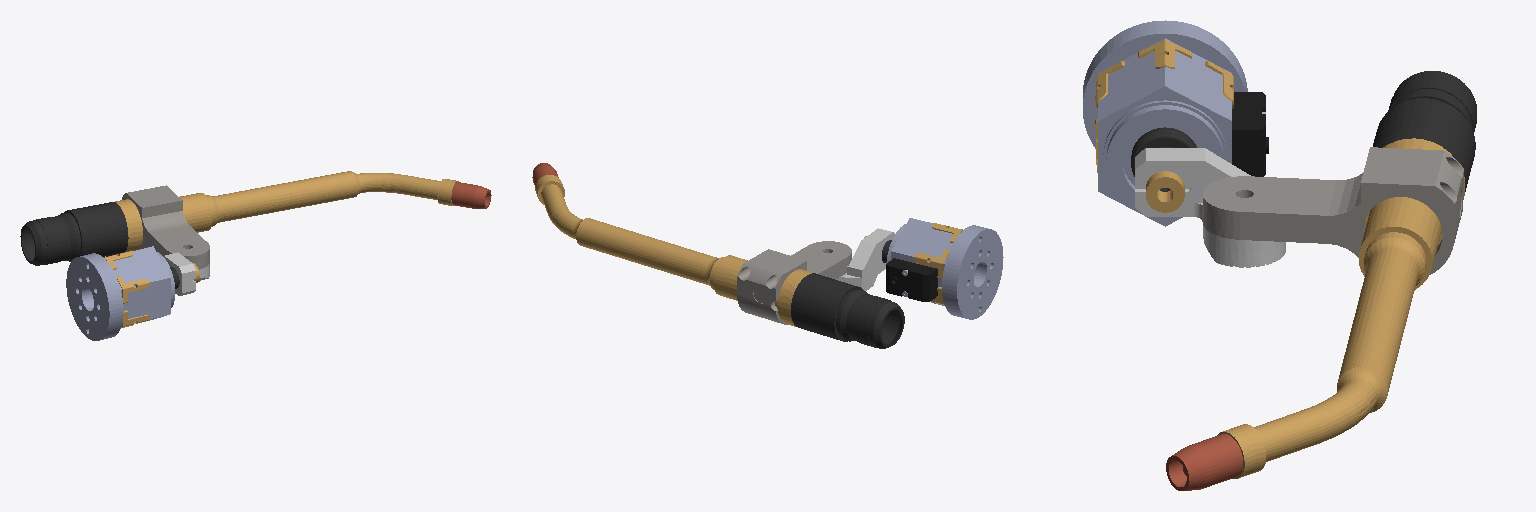
The robot description file, URDF, robot "robot":
<robot name="">
	<link name="base_link">
		<inertial>
			<origin rpy="0.00000 -0.00000 0.00000" xyz="0.00000 0.00000 0.00000" />
			<mass value="1.00000" />
			<inertia ixx="0.03922" ixy="0" ixz="0" iyy="0.07568" iyz="0" izz="0.10640" />
		</inertial>
		<visual>
			<origin rpy="0.00000 -0.00000 0.00000" xyz="0.00000 0.00000 0.00000" />
			<geometry>
				<mesh filename="rlbotics/envs/models/robots/abb/irb4400/meshes/irb4400l_30_243/visual/base_link.stl" scale="1.00000 1.00000 1.00000" />
			</geometry>
			<material name="0">
				<color rgba="0.18824 0.19608 0.20392 1.00000" />
			</material>
		</visual>
		<collision>
			<origin rpy="0.00000 -0.00000 0.00000" xyz="0.00000 0.00000 0.00000" />
			<geometry>
				<mesh filename="rlbotics/envs/models/robots/abb/irb4400/meshes/irb4400l_30_243/collision/base_link.stl" scale="1.00000 1.00000 1.00000" />
			</geometry>
		</collision>
	</link>
	<link name="link_1">
		<inertial>
			<origin rpy="0.00000 -0.00000 0.00000" xyz="0.00000 0.00000 0.00000" />
			<mass value="1.00000" />
			<inertia ixx="0.12077" ixy="0" ixz="0" iyy="0.12169" iyz="0" izz="0.15600" />
		</inertial>
		<visual>
			<origin rpy="0.00000 -0.00000 0.00000" xyz="0.00000 0.00000 0.00000" />
			<geometry>
				<mesh filename="rlbotics/envs/models/robots/abb/irb4400/meshes/irb4400l_30_243/visual/link_1.stl" scale="1.00000 1.00000 1.00000" />
			</geometry>
			<material name="1">
				<color rgba="0.73725 0.34902 0.16078 1.00000" />
			</material>
		</visual>
		<collision>
			<origin rpy="0.00000 -0.00000 0.00000" xyz="0.00000 0.00000 0.00000" />
			<geometry>
				<mesh filename="rlbotics/envs/models/robots/abb/irb4400/meshes/irb4400l_30_243/collision/link_1.stl" scale="1.00000 1.00000 1.00000" />
			</geometry>
		</collision>
	</link>
	<link name="link_2">
		<inertial>
			<origin rpy="0.00000 -0.00000 0.00000" xyz="0.00000 0.00000 0.00000" />
			<mass value="1.00000" />
			<inertia ixx="0.11062" ixy="0" ixz="0" iyy="0.11480" iyz="0" izz="0.01469" />
		</inertial>
		<visual>
			<origin rpy="0.00000 -0.00000 0.00000" xyz="0.00000 0.00000 0.00000" />
			<geometry>
				<mesh filename="rlbotics/envs/models/robots/abb/irb4400/meshes/irb4400l_30_243/visual/link_2.stl" scale="1.00000 1.00000 1.00000" />
			</geometry>
			<material name="2">
				<color rgba="0.73725 0.34902 0.16078 1.00000" />
			</material>
		</visual>
		<collision>
			<origin rpy="0.00000 -0.00000 0.00000" xyz="0.00000 0.00000 0.00000" />
			<geometry>
				<mesh filename="rlbotics/envs/models/robots/abb/irb4400/meshes/irb4400l_30_243/collision/link_2.stl" scale="1.00000 1.00000 1.00000" />
			</geometry>
		</collision>
	</link>
	<link name="link_3">
		<inertial>
			<origin rpy="0.00000 -0.00000 0.00000" xyz="0.00000 0.00000 0.00000" />
			<mass value="1.00000" />
			<inertia ixx="0.02480" ixy="0" ixz="0" iyy="0.05612" iyz="0" izz="0.05646" />
		</inertial>
		<visual>
			<origin rpy="0.00000 -0.00000 0.00000" xyz="0.00000 0.00000 0.00000" />
			<geometry>
				<mesh filename="rlbotics/envs/models/robots/abb/irb4400/meshes/irb4400l_30_243/visual/link_3.stl" scale="1.00000 1.00000 1.00000" />
			</geometry>
			<material name="3">
				<color rgba="0.73725 0.34902 0.16078 1.00000" />
			</material>
		</visual>
		<collision>
			<origin rpy="0.00000 -0.00000 0.00000" xyz="0.00000 0.00000 0.00000" />
			<geometry>
				<mesh filename="rlbotics/envs/models/robots/abb/irb4400/meshes/irb4400l_30_243/collision/link_3.stl" scale="1.00000 1.00000 1.00000" />
			</geometry>
		</collision>
	</link>
	<link name="link_4">
		<inertial>
			<origin rpy="0.00000 -0.00000 0.00000" xyz="0.00000 0.00000 0.00000" />
			<mass value="1.00000" />
			<inertia ixx="0.01045" ixy="0" ixz="0" iyy="0.13699" iyz="0" izz="0.13770" />
		</inertial>
		<visual>
			<origin rpy="0.00000 -0.00000 0.00000" xyz="0.00000 0.00000 0.00000" />
			<geometry>
				<mesh filename="rlbotics/envs/models/robots/abb/irb4400/meshes/irb4400l_30_243/visual/link_4.stl" scale="1.00000 1.00000 1.00000" />
			</geometry>
			<material name="4">
				<color rgba="0.73725 0.34902 0.16078 1.00000" />
			</material>
		</visual>
		<collision>
			<origin rpy="0.00000 -0.00000 0.00000" xyz="0.00000 0.00000 0.00000" />
			<geometry>
				<mesh filename="rlbotics/envs/models/robots/abb/irb4400/meshes/irb4400l_30_243/collision/link_4.stl" scale="1.00000 1.00000 1.00000" />
			</geometry>
		</collision>
	</link>
	<link name="link_5">
		<inertial>
			<origin rpy="0.00000 -0.00000 0.00000" xyz="0.00000 0.00000 0.00000" />
			<mass value="1.00000" />
			<inertia ixx="0.00255" ixy="0" ixz="0" iyy="0.00530" iyz="0" izz="0.00362" />
		</inertial>
		<visual>
			<origin rpy="0.00000 -0.00000 0.00000" xyz="0.00000 0.00000 0.00000" />
			<geometry>
				<mesh filename="rlbotics/envs/models/robots/abb/irb4400/meshes/irb4400l_30_243/visual/link_5.stl" scale="1.00000 1.00000 1.00000" />
			</geometry>
			<material name="5">
				<color rgba="0.73725 0.34902 0.16078 1.00000" />
			</material>
		</visual>
		<collision>
			<origin rpy="0.00000 -0.00000 0.00000" xyz="0.00000 0.00000 0.00000" />
			<geometry>
				<mesh filename="rlbotics/envs/models/robots/abb/irb4400/meshes/irb4400l_30_243/collision/link_5.stl" scale="1.00000 1.00000 1.00000" />
			</geometry>
		</collision>
	</link>
	<link name="link_6">
		<inertial>
			<origin rpy="0.00000 -0.00000 0.00000" xyz="0.00000 0.00000 0.00000" />
			<mass value="1.00000" />
			<inertia ixx="0.00313" ixy="0" ixz="0" iyy="0.00524" iyz="0" izz="0.00536" />
		</inertial>
		<visual>
			<origin rpy="0.00000 -0.00000 0.00000" xyz="0.00000 0.00000 0.00000" />
			<geometry>
				<mesh filename="rlbotics/envs/models/robots/abb/irb4400/meshes/irb4400l_30_243/visual/link_6.stl" scale="1.00000 1.00000 1.00000" />
			</geometry>
			<material name="6">
				<color rgba="0.18824 0.19608 0.20392 1.00000" />
			</material>
		</visual>
		<collision>
			<origin rpy="0.00000 -0.00000 0.00000" xyz="0.00000 0.00000 0.00000" />
			<geometry>
				<mesh filename="rlbotics/envs/models/robots/abb/irb4400/meshes/irb4400l_30_243/collision/link_6.stl" scale="1.00000 1.00000 1.00000" />
			</geometry>
		</collision>
	</link>
	<link name="tool0">
		<inertial>
			<origin rpy="0.00000 -0.00000 0.00000" xyz="0.00000 0.00000 0.00000" />
			<mass value="1.00000" />
			<inertia ixx="0.00000" ixy="0" ixz="0" iyy="0.00000" iyz="0" izz="0.00000" />
		</inertial>
	</link>
	<link name="base">
		<inertial>
			<origin rpy="0.00000 -0.00000 0.00000" xyz="0.00000 0.00000 0.00000" />
			<mass value="1.00000" />
			<inertia ixx="0.00000" ixy="0" ixz="0" iyy="0.00000" iyz="0" izz="0.00000" />
		</inertial>
	</link>
	<link name="root">
		<inertial>
			<origin rpy="0.00000 -0.00000 0.00000" xyz="-0.01448 -0.00427 0.02204" />
			<mass value="10.00000" />
			<inertia ixx="0.62536" ixy="0" ixz="0" iyy="0.53801" iyz="0" izz="0.12460" />
		</inertial>
		<visual>
			<origin rpy="0.00000 -0.00000 0.00000" xyz="-0.02792 -0.00816 0.04271" />
			<geometry>
				<mesh filename="rlbotics/envs/models/end_effectors/welding/welding_torch/meshes/stl/Body1.stl" scale="0.01913 0.01913 0.01913" />
			</geometry>
			<material name="7">
				<color rgba="0.80000 0.80000 0.80000 1.00000" />
			</material>
		</visual>
		<visual>
			<origin rpy="0.00000 -0.00000 0.00000" xyz="-0.02792 -0.00816 0.04271" />
			<geometry>
				<mesh filename="rlbotics/envs/models/end_effectors/welding/welding_torch/meshes/stl/Body10.stl" scale="0.01913 0.01913 0.01913" />
			</geometry>
			<material name="8">
				<color rgba="0.80000 0.64627 0.39843 1.00000" />
			</material>
		</visual>
		<visual>
			<origin rpy="0.00000 -0.00000 0.00000" xyz="-0.02792 -0.00816 0.04271" />
			<geometry>
				<mesh filename="rlbotics/envs/models/end_effectors/welding/welding_torch/meshes/stl/Body11.stl" scale="0.01913 0.01913 0.01913" />
			</geometry>
			<material name="9">
				<color rgba="0.80000 0.64627 0.39843 1.00000" />
			</material>
		</visual>
		<visual>
			<origin rpy="0.00000 -0.00000 0.00000" xyz="-0.02792 -0.00816 0.04271" />
			<geometry>
				<mesh filename="rlbotics/envs/models/end_effectors/welding/welding_torch/meshes/stl/Body12.stl" scale="0.01913 0.01913 0.01913" />
			</geometry>
			<material name="10">
				<color rgba="0.63373 0.65569 0.74667 1.00000" />
			</material>
		</visual>
		<visual>
			<origin rpy="0.00000 -0.00000 0.00000" xyz="-0.02792 -0.00816 0.04271" />
			<geometry>
				<mesh filename="rlbotics/envs/models/end_effectors/welding/welding_torch/meshes/stl/Body13.stl" scale="0.01913 0.01913 0.01913" />
			</geometry>
			<material name="11">
				<color rgba="0.71843 0.73412 0.74353 1.00000" />
			</material>
		</visual>
		<visual>
			<origin rpy="0.00000 -0.00000 0.00000" xyz="-0.02792 -0.00816 0.04271" />
			<geometry>
				<mesh filename="rlbotics/envs/models/end_effectors/welding/welding_torch/meshes/stl/Body14.stl" scale="0.01913 0.01913 0.01913" />
			</geometry>
			<material name="12">
				<color rgba="0.63373 0.65569 0.74667 1.00000" />
			</material>
		</visual>
		<visual>
			<origin rpy="0.00000 -0.00000 0.00000" xyz="-0.02792 -0.00816 0.04271" />
			<geometry>
				<mesh filename="rlbotics/envs/models/end_effectors/welding/welding_torch/meshes/stl/Body15.stl" scale="0.01913 0.01913 0.01913" />
			</geometry>
			<material name="13">
				<color rgba="0.80000 0.64627 0.39843 1.00000" />
			</material>
		</visual>
		<visual>
			<origin rpy="0.00000 -0.00000 0.00000" xyz="-0.02792 -0.00816 0.04271" />
			<geometry>
				<mesh filename="rlbotics/envs/models/end_effectors/welding/welding_torch/meshes/stl/Body16.stl" scale="0.01913 0.01913 0.01913" />
			</geometry>
			<material name="14">
				<color rgba="0.63373 0.65569 0.74667 1.00000" />
			</material>
		</visual>
		<visual>
			<origin rpy="0.00000 -0.00000 0.00000" xyz="-0.02792 -0.00816 0.04271" />
			<geometry>
				<mesh filename="rlbotics/envs/models/end_effectors/welding/welding_torch/meshes/stl/Body17.stl" scale="0.01913 0.01913 0.01913" />
			</geometry>
			<material name="15">
				<color rgba="0.63373 0.65569 0.74667 1.00000" />
			</material>
		</visual>
		<visual>
			<origin rpy="0.00000 -0.00000 0.00000" xyz="-0.02792 -0.00816 0.04271" />
			<geometry>
				<mesh filename="rlbotics/envs/models/end_effectors/welding/welding_torch/meshes/stl/Body18.stl" scale="0.01913 0.01913 0.01913" />
			</geometry>
			<material name="16">
				<color rgba="0.63373 0.65569 0.74667 1.00000" />
			</material>
		</visual>
		<visual>
			<origin rpy="0.00000 -0.00000 0.00000" xyz="-0.02792 -0.00816 0.04271" />
			<geometry>
				<mesh filename="rlbotics/envs/models/end_effectors/welding/welding_torch/meshes/stl/Body19.stl" scale="0.01913 0.01913 0.01913" />
			</geometry>
			<material name="17">
				<color rgba="0.63373 0.65569 0.74667 1.00000" />
			</material>
		</visual>
		<visual>
			<origin rpy="0.00000 -0.00000 0.00000" xyz="-0.02792 -0.00816 0.04271" />
			<geometry>
				<mesh filename="rlbotics/envs/models/end_effectors/welding/welding_torch/meshes/stl/Body2.stl" scale="0.01913 0.01913 0.01913" />
			</geometry>
			<material name="18">
				<color rgba="0.54902 0.48627 0.42353 1.00000" />
			</material>
		</visual>
		<visual>
			<origin rpy="0.00000 -0.00000 0.00000" xyz="-0.02792 -0.00816 0.04271" />
			<geometry>
				<mesh filename="rlbotics/envs/models/end_effectors/welding/welding_torch/meshes/stl/Body20.stl" scale="0.01913 0.01913 0.01913" />
			</geometry>
			<material name="19">
				<color rgba="0.63373 0.65569 0.74667 1.00000" />
			</material>
		</visual>
		<visual>
			<origin rpy="0.00000 -0.00000 0.00000" xyz="-0.02792 -0.00816 0.04271" />
			<geometry>
				<mesh filename="rlbotics/envs/models/end_effectors/welding/welding_torch/meshes/stl/Body21.stl" scale="0.01913 0.01913 0.01913" />
			</geometry>
			<material name="20">
				<color rgba="0.80000 0.64627 0.39843 1.00000" />
			</material>
		</visual>
		<visual>
			<origin rpy="0.00000 -0.00000 0.00000" xyz="-0.02792 -0.00816 0.04271" />
			<geometry>
				<mesh filename="rlbotics/envs/models/end_effectors/welding/welding_torch/meshes/stl/Body23.stl" scale="0.01913 0.01913 0.01913" />
			</geometry>
			<material name="21">
				<color rgba="0.23843 0.23843 0.23843 1.00000" />
			</material>
		</visual>
		<visual>
			<origin rpy="0.00000 -0.00000 0.00000" xyz="-0.02792 -0.00816 0.04271" />
			<geometry>
				<mesh filename="rlbotics/envs/models/end_effectors/welding/welding_torch/meshes/stl/Body24.stl" scale="0.01913 0.01913 0.01913" />
			</geometry>
			<material name="22">
				<color rgba="0.80000 0.64627 0.39843 1.00000" />
			</material>
		</visual>
		<visual>
			<origin rpy="0.00000 -0.00000 0.00000" xyz="-0.02792 -0.00816 0.04271" />
			<geometry>
				<mesh filename="rlbotics/envs/models/end_effectors/welding/welding_torch/meshes/stl/Body25.stl" scale="0.01913 0.01913 0.01913" />
			</geometry>
			<material name="23">
				<color rgba="0.23843 0.23843 0.23843 1.00000" />
			</material>
		</visual>
		<visual>
			<origin rpy="0.00000 -0.00000 0.00000" xyz="-0.02792 -0.00816 0.04271" />
			<geometry>
				<mesh filename="rlbotics/envs/models/end_effectors/welding/welding_torch/meshes/stl/Body26.stl" scale="0.01913 0.01913 0.01913" />
			</geometry>
			<material name="24">
				<color rgba="0.62118 0.55843 0.51137 1.00000" />
			</material>
		</visual>
		<visual>
			<origin rpy="0.00000 -0.00000 0.00000" xyz="-0.02792 -0.00816 0.04271" />
			<geometry>
				<mesh filename="rlbotics/envs/models/end_effectors/welding/welding_torch/meshes/stl/Body27.stl" scale="0.01913 0.01913 0.01913" />
			</geometry>
			<material name="25">
				<color rgba="0.67137 0.37333 0.29490 1.00000" />
			</material>
		</visual>
		<visual>
			<origin rpy="0.00000 -0.00000 0.00000" xyz="-0.02792 -0.00816 0.04271" />
			<geometry>
				<mesh filename="rlbotics/envs/models/end_effectors/welding/welding_torch/meshes/stl/Body3.stl" scale="0.01913 0.01913 0.01913" />
			</geometry>
			<material name="26">
				<color rgba="0.62118 0.60549 0.58980 1.00000" />
			</material>
		</visual>
		<visual>
			<origin rpy="0.00000 -0.00000 0.00000" xyz="-0.02792 -0.00816 0.04271" />
			<geometry>
				<mesh filename="rlbotics/envs/models/end_effectors/welding/welding_torch/meshes/stl/Body4.stl" scale="0.01913 0.01913 0.01913" />
			</geometry>
			<material name="27">
				<color rgba="0.80000 0.62431 0.52706 1.00000" />
			</material>
		</visual>
		<visual>
			<origin rpy="0.00000 -0.00000 0.00000" xyz="-0.02792 -0.00816 0.04271" />
			<geometry>
				<mesh filename="rlbotics/envs/models/end_effectors/welding/welding_torch/meshes/stl/Body5.stl" scale="0.01913 0.01913 0.01913" />
			</geometry>
			<material name="28">
				<color rgba="0.63373 0.65569 0.74667 1.00000" />
			</material>
		</visual>
		<visual>
			<origin rpy="0.00000 -0.00000 0.00000" xyz="-0.02792 -0.00816 0.04271" />
			<geometry>
				<mesh filename="rlbotics/envs/models/end_effectors/welding/welding_torch/meshes/stl/Body6.stl" scale="0.01913 0.01913 0.01913" />
			</geometry>
			<material name="29">
				<color rgba="0.16000 0.16000 0.16000 1.00000" />
			</material>
		</visual>
		<visual>
			<origin rpy="0.00000 -0.00000 0.00000" xyz="-0.02792 -0.00816 0.04271" />
			<geometry>
				<mesh filename="rlbotics/envs/models/end_effectors/welding/welding_torch/meshes/stl/Body7.stl" scale="0.01913 0.01913 0.01913" />
			</geometry>
			<material name="30">
				<color rgba="0.80000 0.64627 0.39843 1.00000" />
			</material>
		</visual>
		<visual>
			<origin rpy="0.00000 -0.00000 0.00000" xyz="-0.02792 -0.00816 0.04271" />
			<geometry>
				<mesh filename="rlbotics/envs/models/end_effectors/welding/welding_torch/meshes/stl/Body8.stl" scale="0.01913 0.01913 0.01913" />
			</geometry>
			<material name="31">
				<color rgba="0.80000 0.64627 0.39843 1.00000" />
			</material>
		</visual>
		<visual>
			<origin rpy="0.00000 -0.00000 0.00000" xyz="-0.02792 -0.00816 0.04271" />
			<geometry>
				<mesh filename="rlbotics/envs/models/end_effectors/welding/welding_torch/meshes/stl/Body9.stl" scale="0.01913 0.01913 0.01913" />
			</geometry>
			<material name="32">
				<color rgba="0.80000 0.64627 0.39843 1.00000" />
			</material>
		</visual>
		<collision>
			<origin rpy="0.00000 -0.00000 0.00000" xyz="-0.02694 -0.00899 0.04304" />
			<geometry>
				<mesh filename="rlbotics/envs/models/end_effectors/welding/welding_torch/meshes/stl/Body1.001.stl" scale="1.91308 1.91308 1.91308" />
			</geometry>
		</collision>
		<collision>
			<origin rpy="0.00000 -0.00000 0.00000" xyz="-0.03031 -0.00834 0.04250" />
			<geometry>
				<mesh filename="rlbotics/envs/models/end_effectors/welding/welding_torch/meshes/stl/Body23.001.stl" scale="1.91308 1.91308 1.91308" />
			</geometry>
		</collision>
		<collision>
			<origin rpy="0.00000 -0.00000 0.00000" xyz="-0.02830 -0.00808 0.04410" />
			<geometry>
				<mesh filename="rlbotics/envs/models/end_effectors/welding/welding_torch/meshes/stl/Body24.001.stl" scale="1.91308 1.91308 1.91308" />
			</geometry>
		</collision>
		<collision>
			<origin rpy="0.00000 -0.00000 0.00000" xyz="-0.02798 -0.00886 0.05092" />
			<geometry>
				<mesh filename="rlbotics/envs/models/end_effectors/welding/welding_torch/meshes/stl/Body25.001.stl" scale="1.91308 1.91308 1.91308" />
			</geometry>
		</collision>
		<collision>
			<origin rpy="0.00000 -0.00000 0.00000" xyz="-0.02695 -0.00714 0.04028" />
			<geometry>
				<mesh filename="rlbotics/envs/models/end_effectors/welding/welding_torch/meshes/stl/Body3.001.stl" scale="1.91308 1.91308 1.91308" />
			</geometry>
		</collision>
		<collision>
			<origin rpy="0.00000 -0.00000 0.00000" xyz="-0.02659 -0.00839 0.04212" />
			<geometry>
				<mesh filename="rlbotics/envs/models/end_effectors/welding/welding_torch/meshes/stl/Body5.001.stl" scale="1.91308 1.91308 1.91308" />
			</geometry>
		</collision>
		<collision>
			<origin rpy="0.00000 -0.00000 0.00000" xyz="-0.02771 -0.00796 0.04287" />
			<geometry>
				<mesh filename="rlbotics/envs/models/end_effectors/welding/welding_torch/meshes/stl/Body6.001.stl" scale="1.91308 1.91308 1.91308" />
			</geometry>
		</collision>
	</link>
	<link name="ee_joint_arm">
		<inertial>
			<origin rpy="0.00000 -0.00000 0.00000" xyz="-0.01458 -0.00585 0.05244" />
			<mass value="2.00000" />
			<inertia ixx="0.00442" ixy="0" ixz="0" iyy="0.00442" iyz="0" izz="0.00843" />
		</inertial>
		<visual>
			<origin rpy="0.00000 -0.00000 0.00000" xyz="-0.02797 -0.01121 0.09982" />
			<geometry>
				<mesh filename="rlbotics/envs/models/end_effectors/welding/welding_torch/meshes/stl/Body22.stl" scale="0.01913 0.01913 0.01913" />
			</geometry>
			<material name="33">
				<color rgba="0.63373 0.65569 0.74667 1.00000" />
			</material>
		</visual>
		<collision>
			<origin rpy="0.00000 -0.00000 0.00000" xyz="-0.02788 -0.01119 0.10032" />
			<geometry>
				<mesh filename="rlbotics/envs/models/end_effectors/welding/welding_torch/meshes/stl/Body22.001.stl" scale="1.91308 1.91308 1.91308" />
			</geometry>
		</collision>
	</link>
	<link name="nozzle_tip">
		<inertial>
			<origin rpy="0.00000 -0.00000 0.00000" xyz="-0.01570 -0.30904 -0.22158" />
			<mass value="2.00000" />
			<inertia ixx="0.00381" ixy="0" ixz="0" iyy="0.00232" iyz="0" izz="0.00228" />
		</inertial>
		<visual>
			<origin rpy="-0.92502 0.00000 0.00000" xyz="-0.02985 -0.59008 -0.41691" />
			<geometry>
				<mesh filename="rlbotics/envs/models/end_effectors/welding/welding_torch/meshes/stl/Body28.stl" scale="0.01913 0.01913 0.01913" />
			</geometry>
			<material name="34">
				<color rgba="0.67137 0.37333 0.29490 1.00000" />
			</material>
		</visual>
		<collision>
			<origin rpy="-0.92502 0.00000 0.00000" xyz="-0.03004 -0.59122 -0.42390" />
			<geometry>
				<mesh filename="rlbotics/envs/models/end_effectors/welding/welding_torch/meshes/stl/Body28.001.stl" scale="1.91308 1.91308 1.91308" />
			</geometry>
		</collision>
	</link>
	<joint name="joint_1" type="revolute">
		<parent link="base_link" />
		<child link="link_1" />
		<dynamics damping="0.0" friction="0.0" />
		<origin rpy="0.00000 -0.00000 0.00000" xyz="0.00000 0.00000 0.00000" />
		<axis xyz="0.00000 0.00000 1.00000" />
	<limit effort="0.0" lower="-2.87979" upper="2.87979" velocity="2.618" /></joint>
	<joint name="joint_2" type="revolute">
		<parent link="link_1" />
		<child link="link_2" />
		<dynamics damping="0.0" friction="0.0" />
		<origin rpy="0.00000 -0.00000 0.00000" xyz="0.20000 0.00000 0.68000" />
		<axis xyz="0.00000 1.00000 0.00000" />
	<limit effort="0.0" lower="-1.2217" upper="1.658" velocity="2.0944" /></joint>
	<joint name="joint_3" type="revolute">
		<parent link="link_2" />
		<child link="link_3" />
		<dynamics damping="0.0" friction="0.0" />
		<origin rpy="0.00000 -0.00000 0.00000" xyz="0.00000 0.00000 0.89000" />
		<axis xyz="0.00000 1.00000 0.00000" />
	<limit effort="0.0" lower="-1.0472" upper="1.1345" velocity="2.0944" /></joint>
	<joint name="joint_4" type="revolute">
		<parent link="link_3" />
		<child link="link_4" />
		<dynamics damping="0.0" friction="0.0" />
		<origin rpy="0.00000 -0.00000 0.00000" xyz="1.38000 0.00000 0.15000" />
		<axis xyz="1.00000 0.00000 0.00000" />
	<limit effort="0.0" lower="-3.49" upper="3.49" velocity="3.927" /></joint>
	<joint name="joint_5" type="revolute">
		<parent link="link_4" />
		<child link="link_5" />
		<dynamics damping="0.0" friction="0.0" />
		<origin rpy="0.00000 -0.00000 0.00000" xyz="0.00000 0.00000 0.00000" />
		<axis xyz="0.00000 1.00000 0.00000" />
	<limit effort="0.0" lower="-2.0944" upper="2.0944" velocity="4.3633" /></joint>
	<joint name="joint_6" type="revolute">
		<parent link="link_5" />
		<child link="link_6" />
		<dynamics damping="0.0" friction="0.0" />
		<origin rpy="0.00000 -0.00000 0.00000" xyz="0.00000 0.00000 0.00000" />
		<axis xyz="1.00000 0.00000 0.00000" />
	<limit effort="0.0" lower="-6.9813" upper="6.9813" velocity="5.7596" /></joint>
	<joint name="joint_6-tool0" type="fixed">
		<parent link="link_6" />
		<child link="tool0" />
		<dynamics damping="1.0" friction="0.0001" />
		<origin rpy="0.00000 -0.00000 0.00000" xyz="0.14000 0.00000 0.00000" />
		<axis xyz="0.00000 0.00000 0.00000" />
	</joint>
	<joint name="base_link-base" type="fixed">
		<parent link="base_link" />
		<child link="base" />
		<dynamics damping="1.0" friction="0.0001" />
		<origin rpy="0.00000 -0.00000 0.00000" xyz="0.00000 0.00000 0.00000" />
		<axis xyz="0.00000 0.00000 0.00000" />
	</joint>
	<joint name="joint_dummy1" type="fixed">
		<parent link="link_6" />
		<child link="root" />
		<dynamics damping="1.0" friction="0.0001" />
		<origin rpy="0.00000 1.57080 0.00000" xyz="0.00000 0.00000 0.00000" />
		<axis xyz="0.00000 0.00000 1.00000" />
	</joint>
	<joint name="ee_joint_arm" type="fixed">
		<parent link="root" />
		<child link="ee_joint_arm" />
		<dynamics damping="1.0" friction="0.0001" />
		<origin rpy="0.00000 -0.00000 0.00000" xyz="0.00005 0.00304 -0.05711" />
		<axis xyz="0.00000 0.00000 0.00000" />
	</joint>
	<joint name="nozzle_tip" type="fixed">
		<parent link="root" />
		<child link="nozzle_tip" />
		<dynamics damping="1.0" friction="0.0001" />
		<origin rpy="0.92502 -0.00000 0.00000" xyz="0.00193 0.01399 0.76487" />
		<axis xyz="0.00000 0.00000 0.00000" />
	</joint>
</robot>

--- What the picture shows (computed from the rendered views, not written in the file) ---
The picture shows the robot from 3 angles, left to right: view 1: azimuth 30°, elevation 25°; view 2: azimuth 150°, elevation 25°; view 3: azimuth 270°, elevation 25°; orthographic projection.
Model robot with 12 links and 11 joints (6 revolute, 5 fixed), rooted at base_link, posed all joints at 0.
Visible links, largest first — view 1: root, ee_joint_arm, nozzle_tip; view 2: root, ee_joint_arm; view 3: root, ee_joint_arm, nozzle_tip.
Boxes of the visible links, x1,y1,x2,y2 form: root: (20, 171, 458, 327); ee_joint_arm: (66, 253, 123, 340); nozzle_tip: (451, 182, 491, 208); root: (535, 175, 962, 348); ee_joint_arm: (942, 225, 1003, 319); root: (1095, 38, 1476, 478); ee_joint_arm: (1083, 20, 1247, 148); nozzle_tip: (1166, 434, 1242, 490).
Size in the robot's own frame: 0.8374 by 0.3655 by 0.153 metres.
Meshes: 35 distinct files referenced, 28 mesh visuals loaded (28 binary STL); not drawn: 7 (reference not matched to a file when rendering).